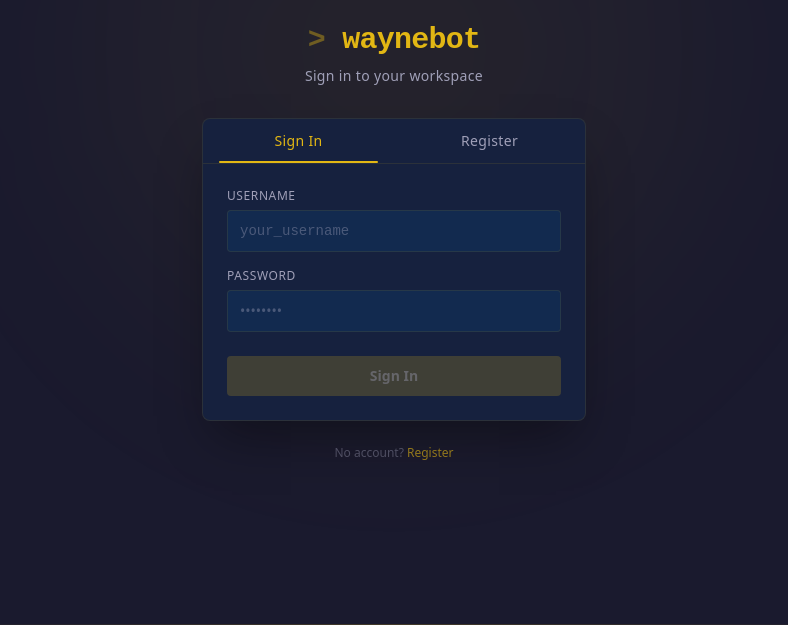
Test: LoginPage › shows password validation hint when too short
Type "short" into the password field labelled "Password" at (394, 310), box x1=227 y1=290 x2=561 y2=332
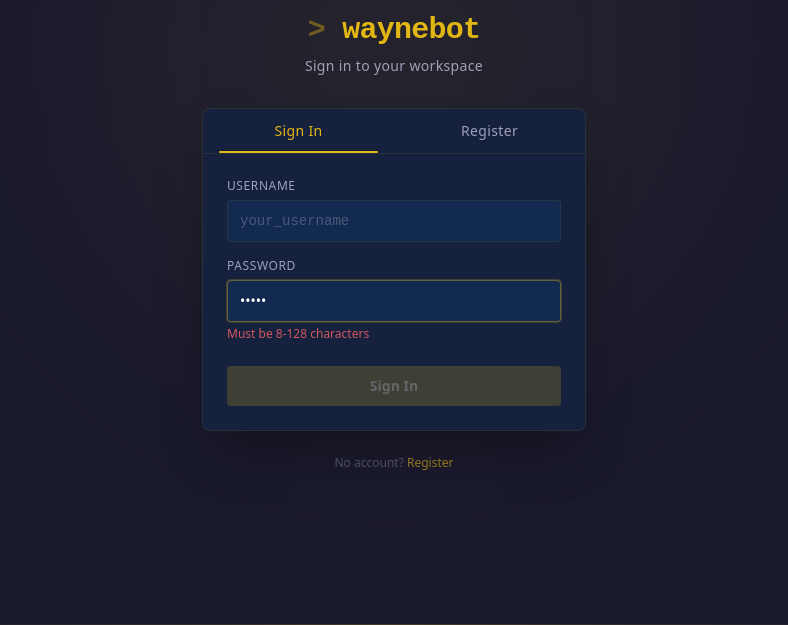
expect the text "Must be 8-128 characters" is shown: met, box x1=227 y1=324 x2=369 y2=342
